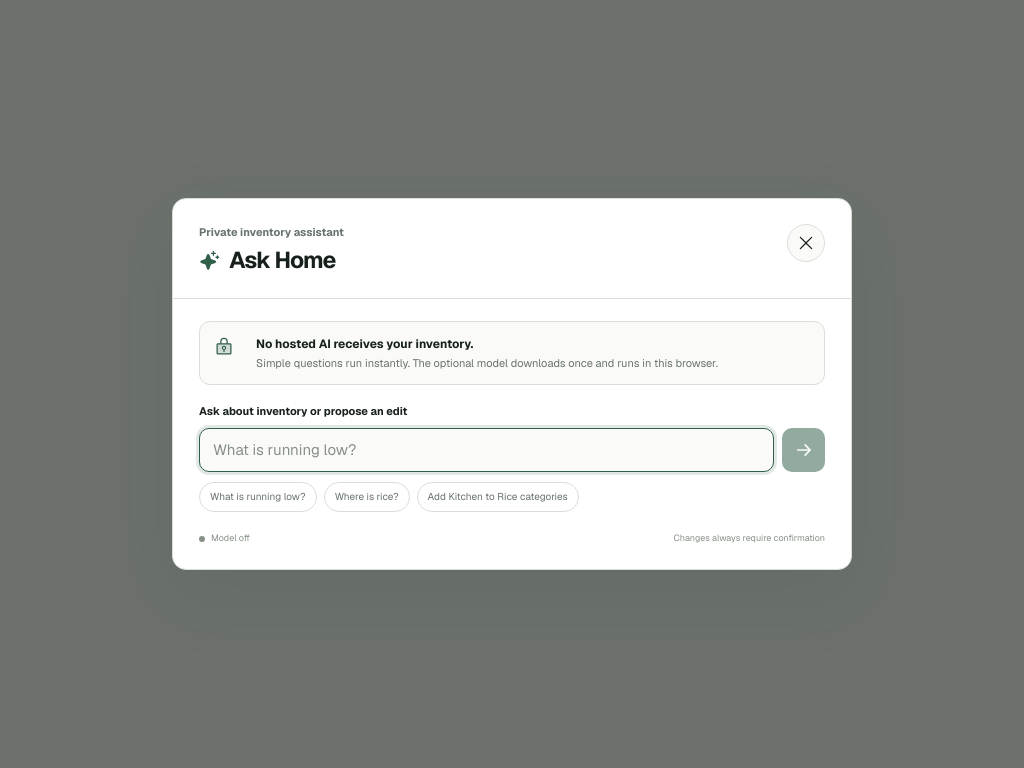
InventoryAssistant › continues when quota estimation is unavailable and does not persist prompts
The image size is (1024, 768).
Step 1. Type "Rename Dish soap" into the field labelled "Ask about inventory or propose an edit" → [486, 450], box [199,428,774,472]
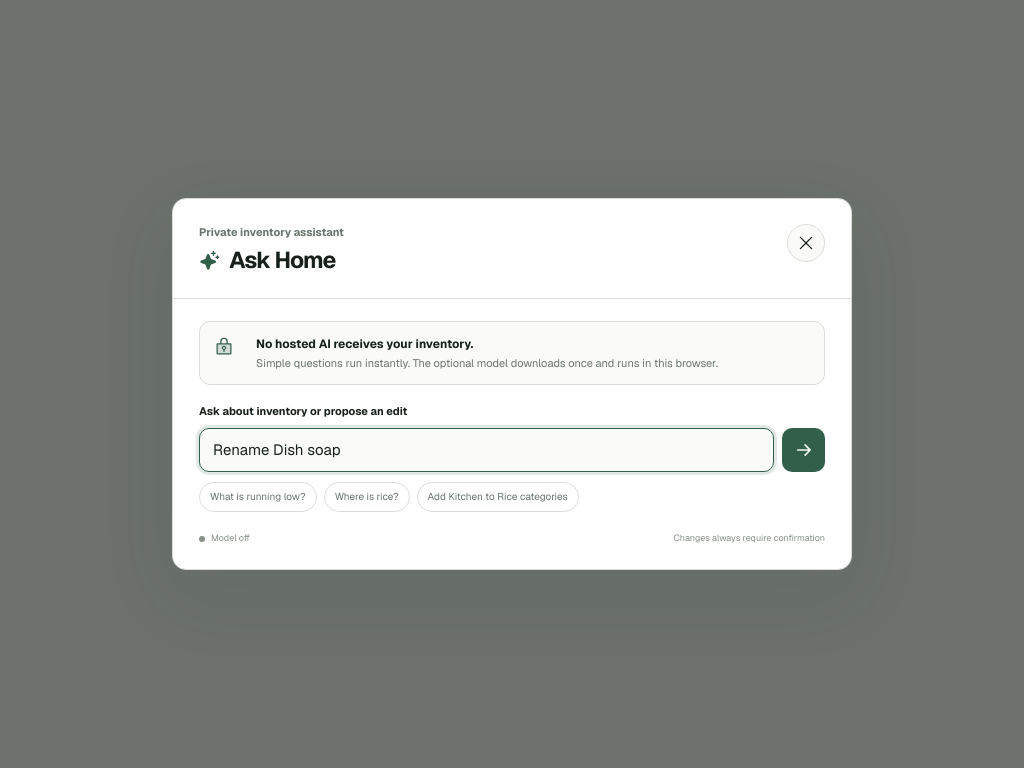
Step 2. Click the button named "Ask Home" → [804, 450], box [782,428,825,472]
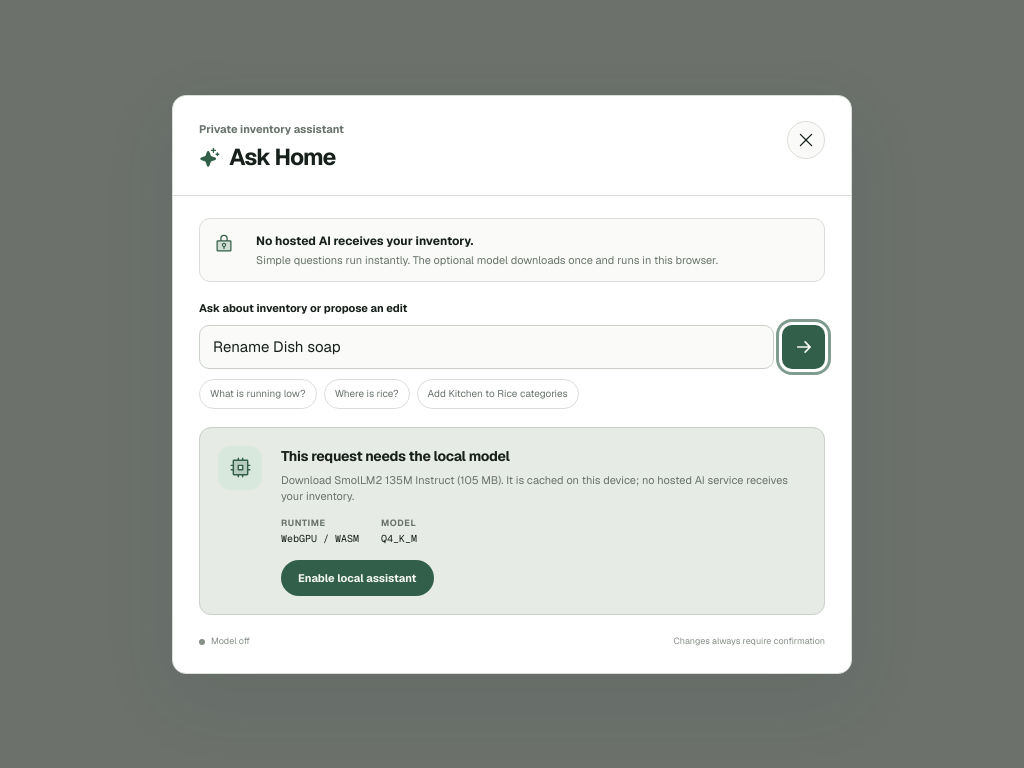
Step 3. Click the button "Enable local assistant" → [357, 578], box [281,560,434,596]
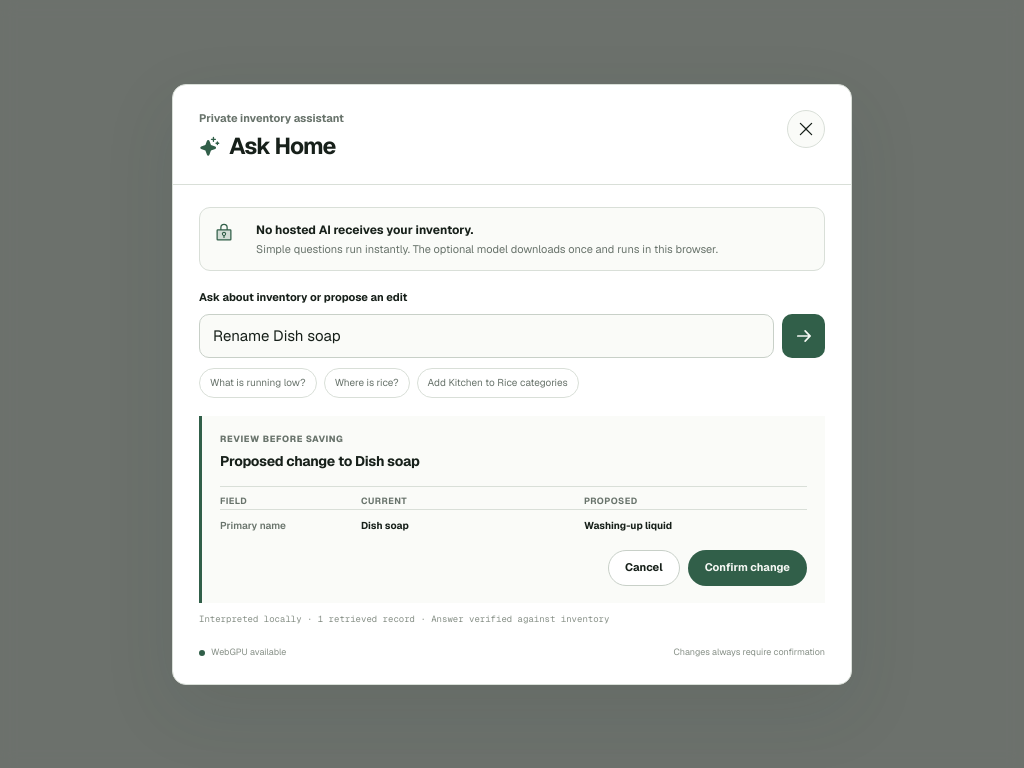
Result: the heading "Proposed change to Dish soap" is shown at [220,452,420,470]
